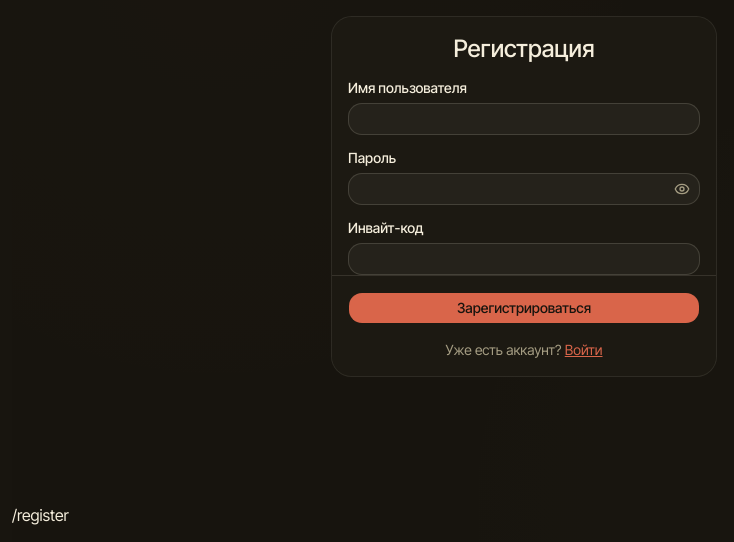
Test: RegisterPage › успешная регистрация шлёт данные и ведёт на /login
Type "newbie" into the field labelled "Имя пользователя" at point(524, 119), box [348,103,700,135]
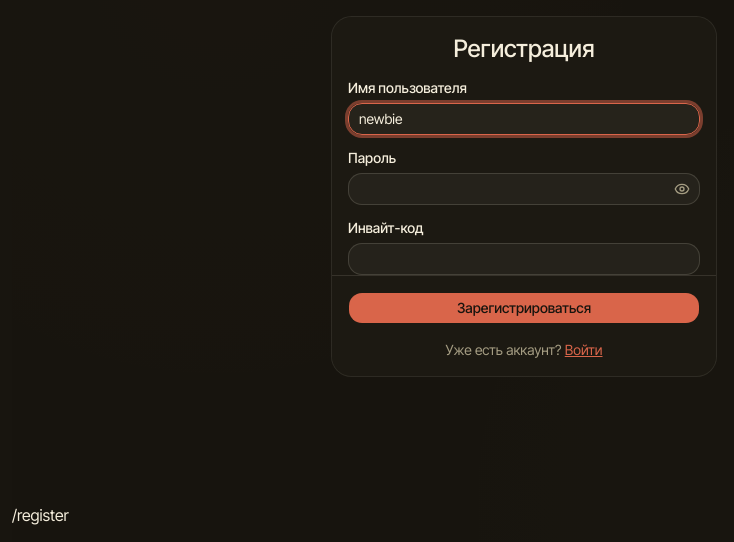
Type "secret123" into the password field labelled "Пароль" at point(524, 189), box [348,173,700,205]
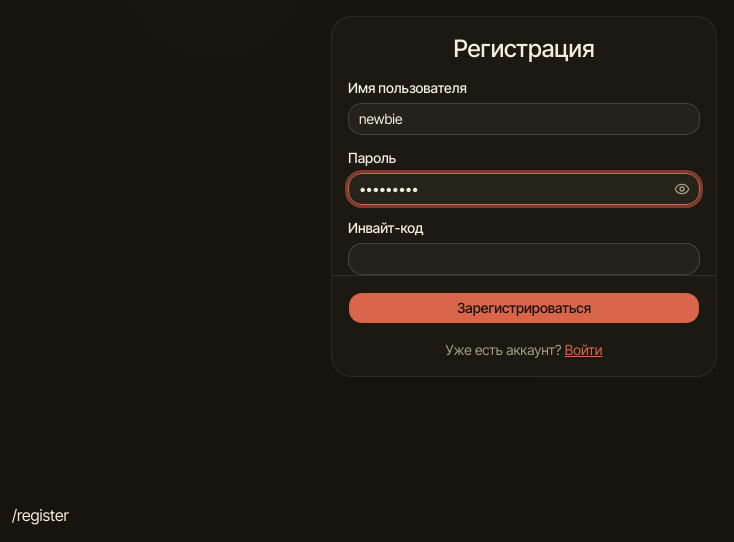
Type "WOLF" into the field labelled "Инвайт-код" at point(524, 259), box [348,243,700,275]
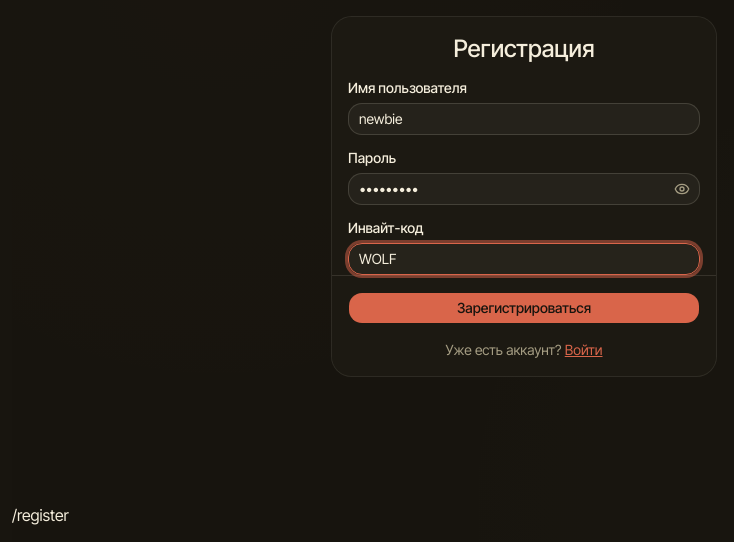
Click the button "Зарегистрироваться" at point(524, 308), box [348,292,700,324]
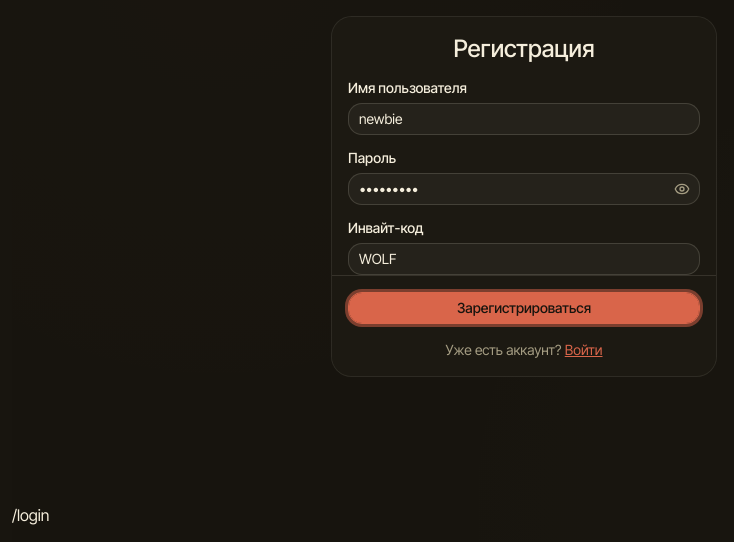
Expected: the text with test id "location" reads "/login", [12,505,50,525]
